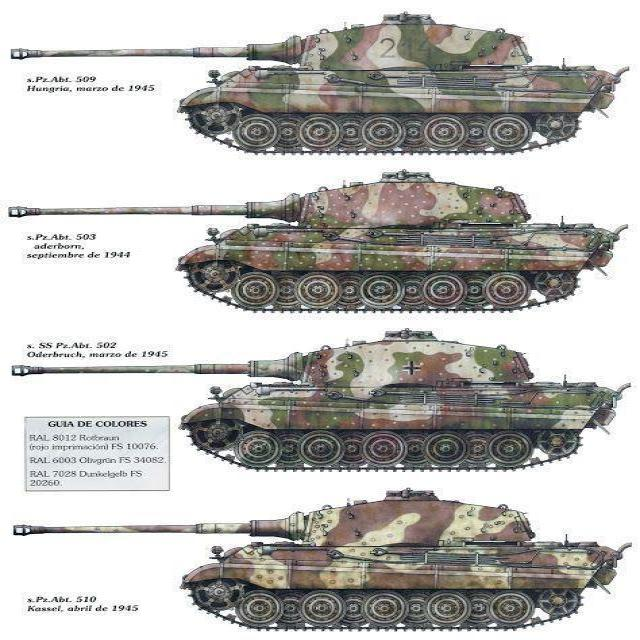Tanks: (10, 151, 575, 320), (15, 508, 630, 623), (184, 336, 566, 486), (179, 32, 572, 157)
